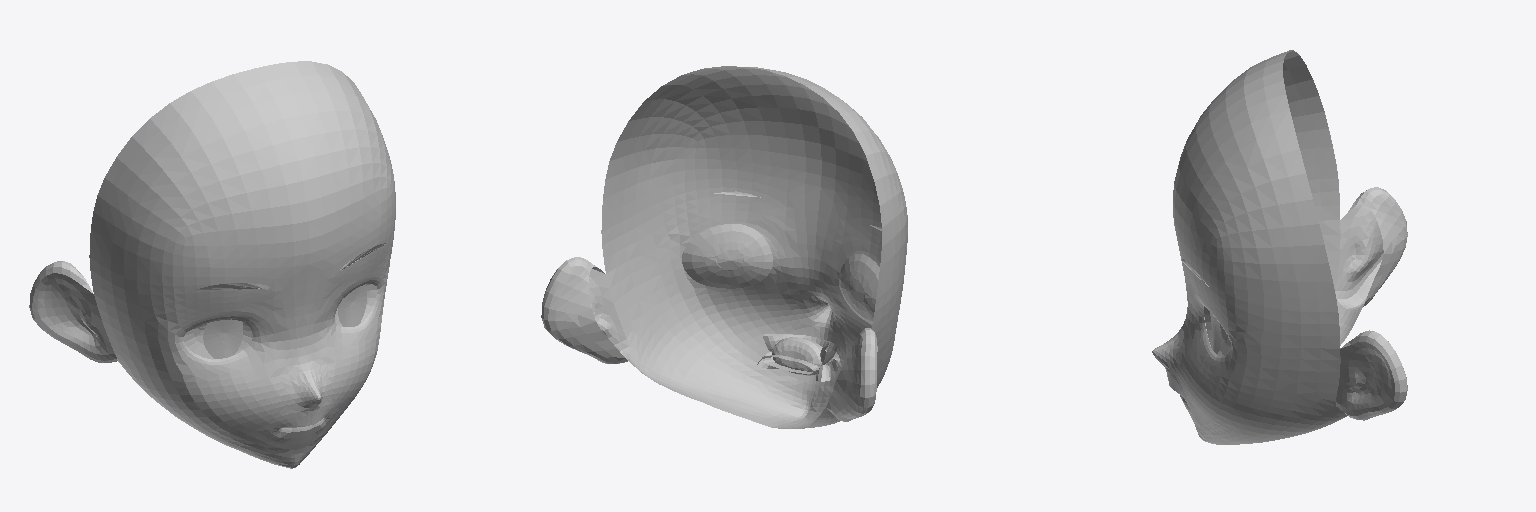
The model's file is mouthRollLower.obj.
3 renders of one model, left to right at view 1: azimuth 30°, elevation 25°; view 2: azimuth 150°, elevation 25°; view 3: azimuth 270°, elevation 25°, orthographic.
Visible parts, largest first — view 1: Face; view 2: Face; view 3: Face.
Boxes of the visible parts, box(x1,y1,x2,y2) form: Face: box(29, 61, 395, 468); Face: box(541, 66, 907, 428); Face: box(1152, 50, 1407, 444).
Size of the model in its own units: 0.2176 by 0.2333 by 0.1449.